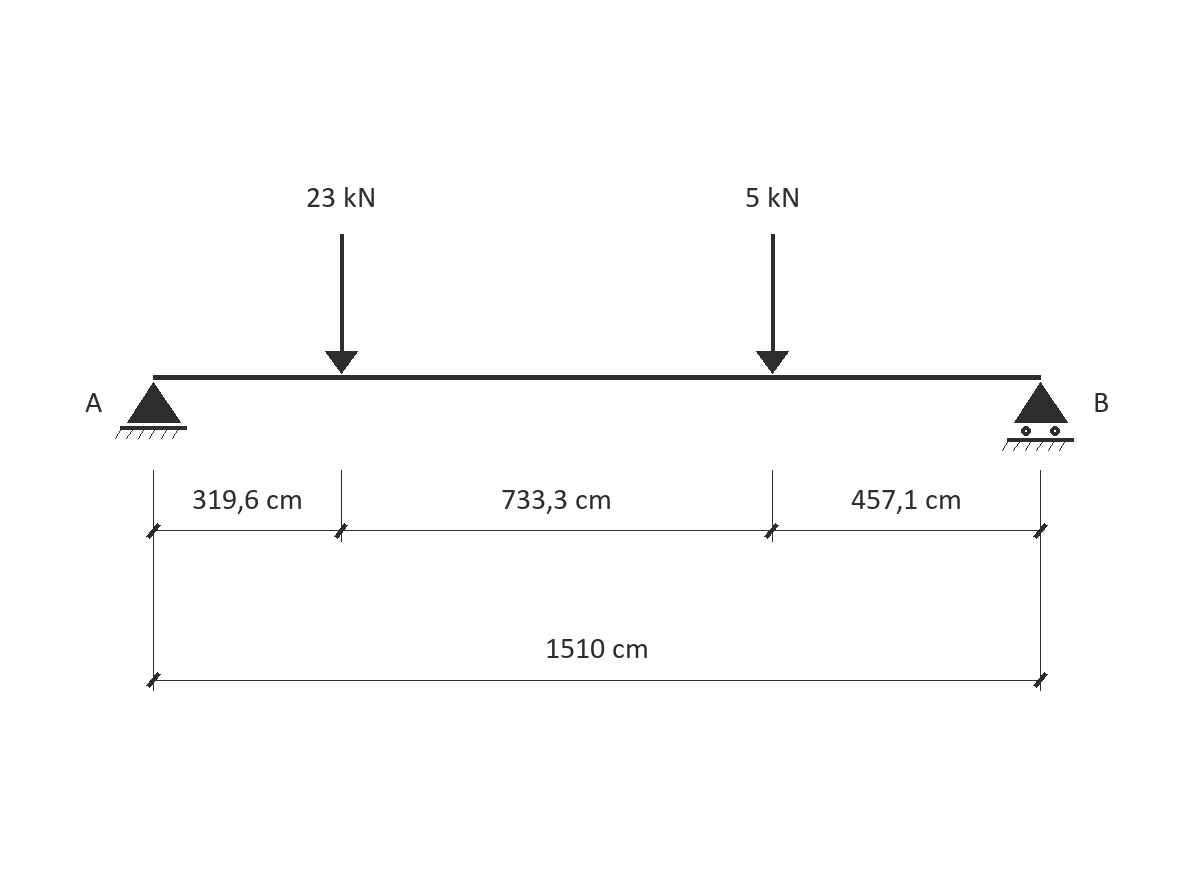pin_support: (115, 382, 187, 439)
point_load: (325, 234, 358, 374), (756, 234, 789, 374)
roller_support: (1002, 382, 1074, 451)
